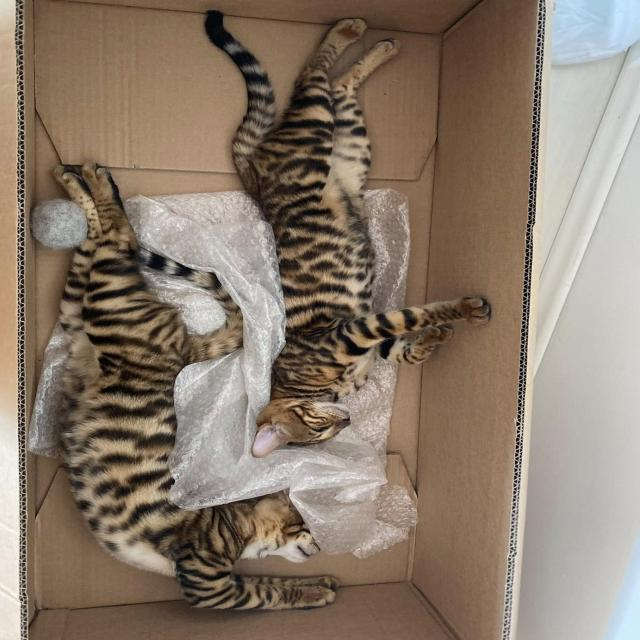Toyger: (48, 158, 340, 616), (202, 7, 495, 460)
